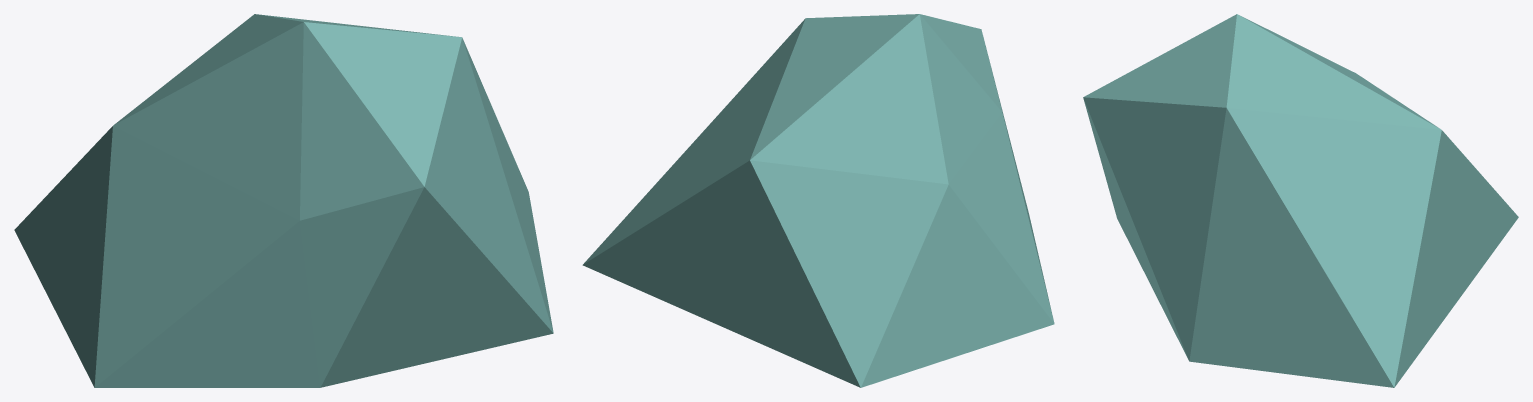
Rendered from Rock 3.fbx.
3 renders of one model, left to right at view 1: azimuth 30°, elevation 25°; view 2: azimuth 150°, elevation 25°; view 3: azimuth 270°, elevation 25°, orthographic. The views are drawn at different scales.
Visible parts, largest first — view 1: Rock.002; view 2: Rock.002; view 3: Rock.002.
Part boxes in pixels (<box>): Rock.002: <box>14,14,553,387</box>; Rock.002: <box>582,14,1054,387</box>; Rock.002: <box>1083,14,1518,387</box>.
Bounding box in the file's own units: 129 × 89.78 × 122.
